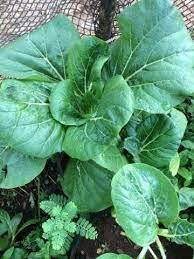Healthy-Pechay: (8, 13, 194, 199)
